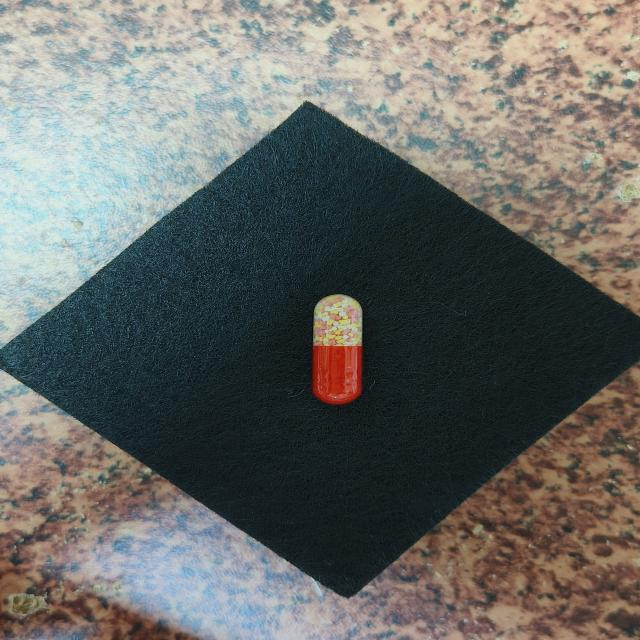Intact Capsule: (312, 294, 362, 405)
